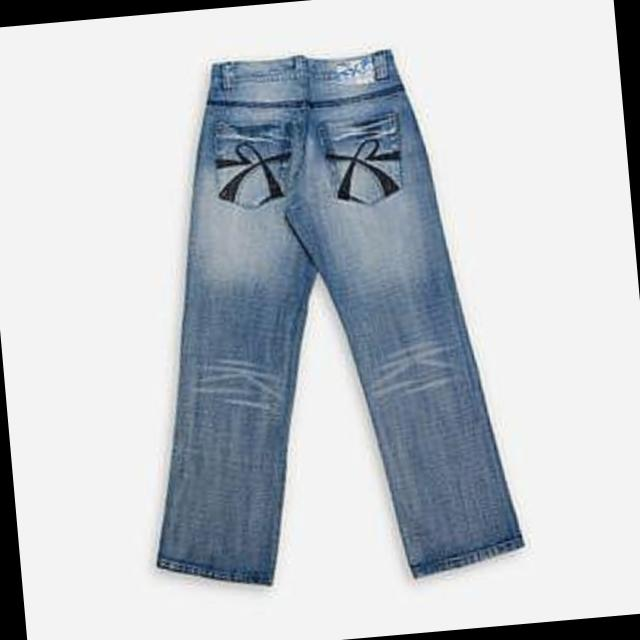TROUSER: (98, 28, 542, 605)
